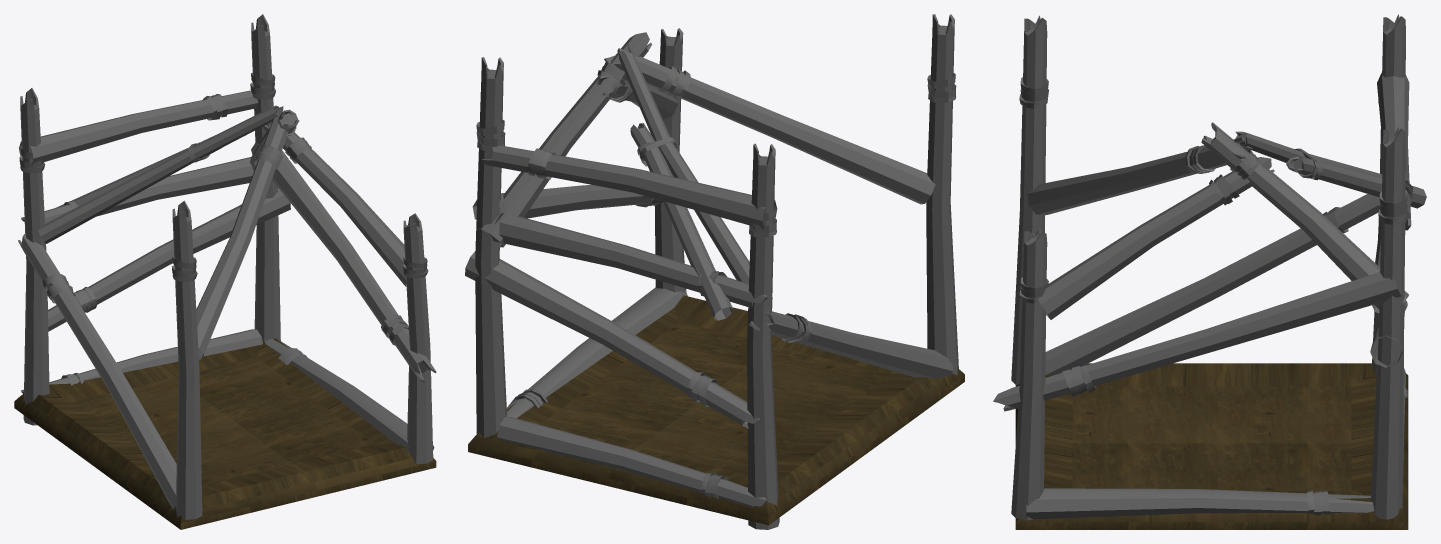
The model's file is lumber_storage.fbx.
3 renders of one model, left to right at view 1: azimuth 30°, elevation 25°; view 2: azimuth 150°, elevation 25°; view 3: azimuth 270°, elevation 25°, orthographic. The views are drawn at different scales.
Visible parts, largest first — view 1: mesh_48, mesh_32, mesh_30, mesh_26, mesh_29, mesh_50, mesh_28, mesh_27, mesh_33, mesh_51, mesh_24, mesh_49 (+4 smaller); view 2: mesh_48, mesh_28, mesh_32, mesh_26, mesh_50, mesh_24, mesh_51, mesh_27, mesh_25, mesh_23, mesh_30, mesh_37 (+4 smaller); view 3: mesh_48, mesh_28, mesh_29, mesh_30, mesh_31, mesh_33, mesh_49, mesh_32, mesh_37, mesh_50, mesh_51, mesh_27 (+1 smaller).
Part boxes in pixels (box(x1,y1,x2,y2)): mesh_48: box(14, 338, 436, 529); mesh_32: box(171, 200, 202, 519); mesh_30: box(18, 233, 176, 509); mesh_26: box(19, 88, 49, 425); mesh_29: box(251, 142, 436, 382); mesh_50: box(196, 106, 288, 359); mesh_28: box(250, 14, 280, 341); mesh_27: box(19, 90, 258, 165); mesh_33: box(402, 213, 433, 463); mesh_51: box(38, 105, 280, 243); mesh_24: box(48, 187, 290, 331); mesh_49: box(263, 124, 406, 286); mesh_48: box(468, 295, 964, 525); mesh_28: box(475, 57, 506, 438); mesh_32: box(926, 14, 958, 374); mesh_26: box(747, 143, 779, 529); mesh_50: box(604, 48, 935, 204); mesh_24: box(465, 251, 759, 428); mesh_51: box(618, 45, 749, 320); mesh_27: box(482, 145, 777, 229); mesh_25: box(488, 215, 772, 307); mesh_23: box(497, 416, 767, 507); mesh_30: box(749, 311, 953, 378); mesh_37: box(478, 32, 652, 247); mesh_48: box(1015, 363, 1408, 529); mesh_28: box(1371, 126, 1407, 519); mesh_29: box(993, 272, 1401, 411); mesh_30: box(1045, 194, 1379, 375); mesh_31: box(1026, 488, 1374, 519); mesh_33: box(1011, 228, 1048, 520); mesh_49: box(1037, 157, 1274, 319); mesh_32: box(1011, 15, 1048, 385); mesh_37: box(1201, 122, 1408, 309); mesh_50: box(1027, 137, 1252, 214); mesh_51: box(1235, 131, 1426, 208); mesh_27: box(1377, 72, 1413, 230).
Bounding box in the file's own units: 511 × 638 × 619.
Materials: 2 (1 with a texture image).
